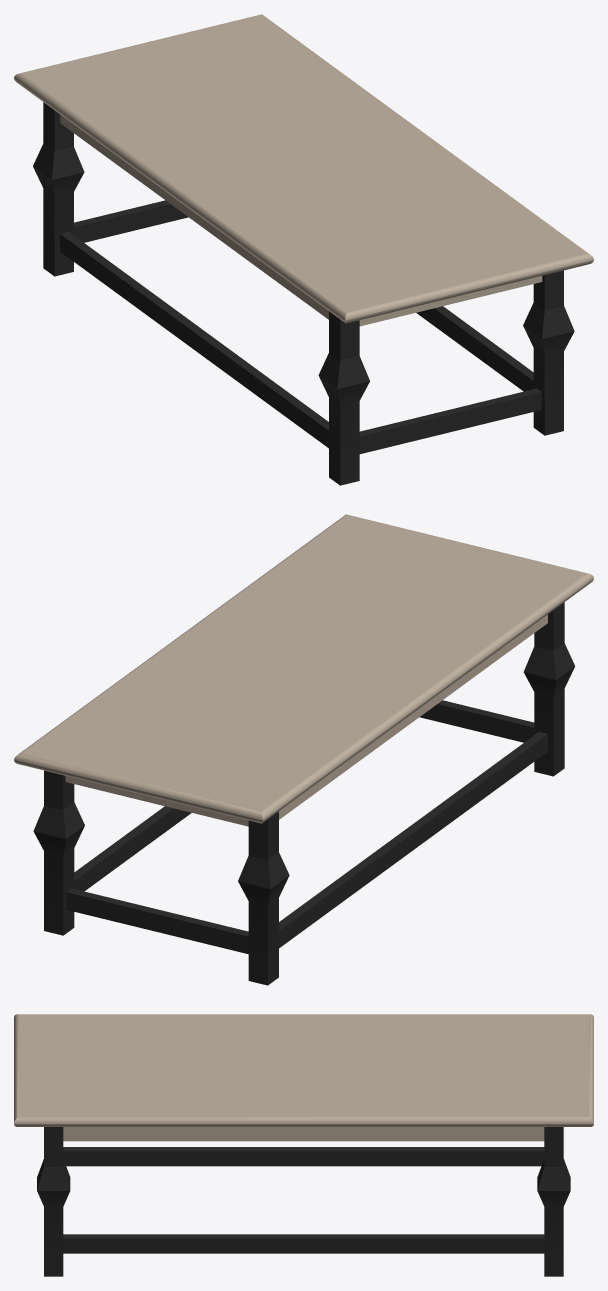
The model's file is GrandeTable_65.fbx.
3 views of the same model, one above another, from view 1: azimuth 30°, elevation 25°; view 2: azimuth 150°, elevation 25°; view 3: azimuth 270°, elevation 25° (orthographic). The views are drawn at different scales.
Visible parts, largest first — view 1: pCube97, pCube99, polySurface27, polySurface24, polySurface26, pCube101, pCube98, pCube100; view 2: pCube97, pCube99, polySurface26, polySurface25, polySurface27, pCube100, pCube98, pCube101; view 3: pCube97, pCube98, pCube99, polySurface25, polySurface24.
Part boxes in pixels (left/top/right/bottom): pCube97: left=14, top=14, right=593, bottom=326; pCube99: left=60, top=232, right=328, bottom=448; polySurface27: left=318, top=311, right=369, bottom=485; polySurface24: left=523, top=270, right=574, bottom=435; polySurface26: left=33, top=102, right=84, bottom=276; pCube101: left=359, top=388, right=541, bottom=454; pCube98: left=416, top=306, right=533, bottom=391; pCube100: left=74, top=200, right=188, bottom=242; pCube97: left=14, top=514, right=593, bottom=826; pCube99: left=279, top=731, right=547, bottom=948; polySurface26: left=238, top=811, right=289, bottom=985; polySurface25: left=33, top=770, right=84, bottom=935; polySurface27: left=523, top=602, right=575, bottom=776; pCube100: left=66, top=888, right=248, bottom=954; pCube98: left=74, top=806, right=191, bottom=891; pCube101: left=420, top=700, right=534, bottom=742; pCube97: left=14, top=1014, right=593, bottom=1141; pCube98: left=63, top=1234, right=544, bottom=1253; pCube99: left=63, top=1147, right=544, bottom=1166; polySurface25: left=537, top=1127, right=570, bottom=1276; polySurface24: left=37, top=1127, right=70, bottom=1276.
Bounding box in the file's own units: 56.23 × 40.23 × 130.
